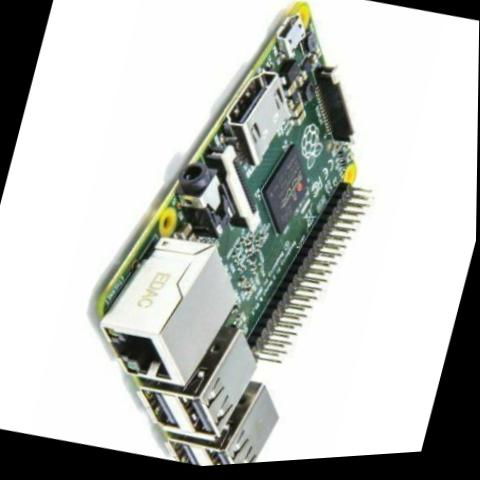Raspberry-Pi-2-Model-B: (53, 0, 429, 477)
